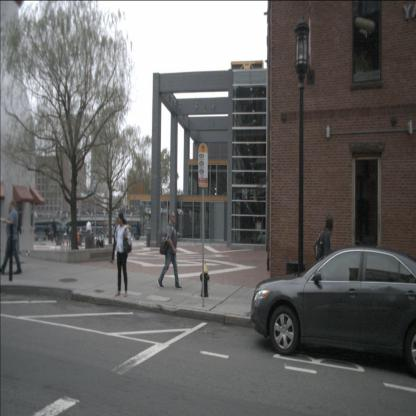human-pedestrian-adult: (313, 213, 335, 312), (157, 211, 182, 290), (0, 199, 22, 275), (114, 212, 132, 297), (50, 218, 58, 243), (96, 230, 104, 249), (86, 219, 92, 242), (66, 224, 71, 242), (136, 220, 140, 240), (46, 226, 51, 240)
vehicle-car: (251, 246, 416, 378)
